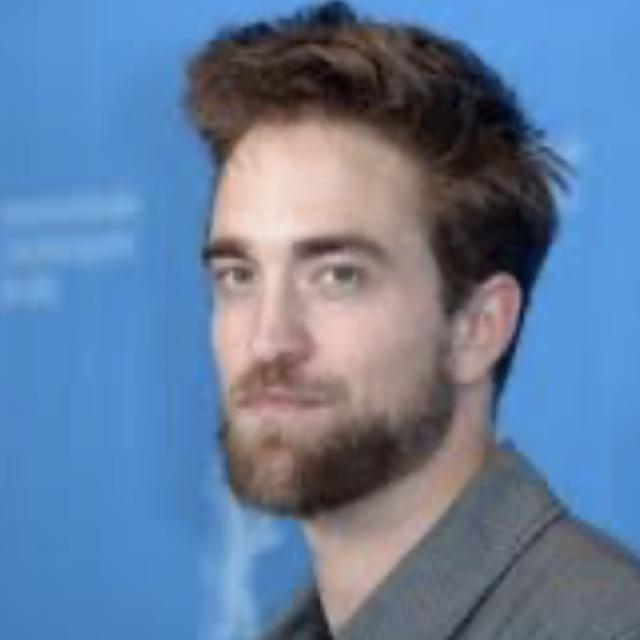natural: (173, 7, 582, 544)
